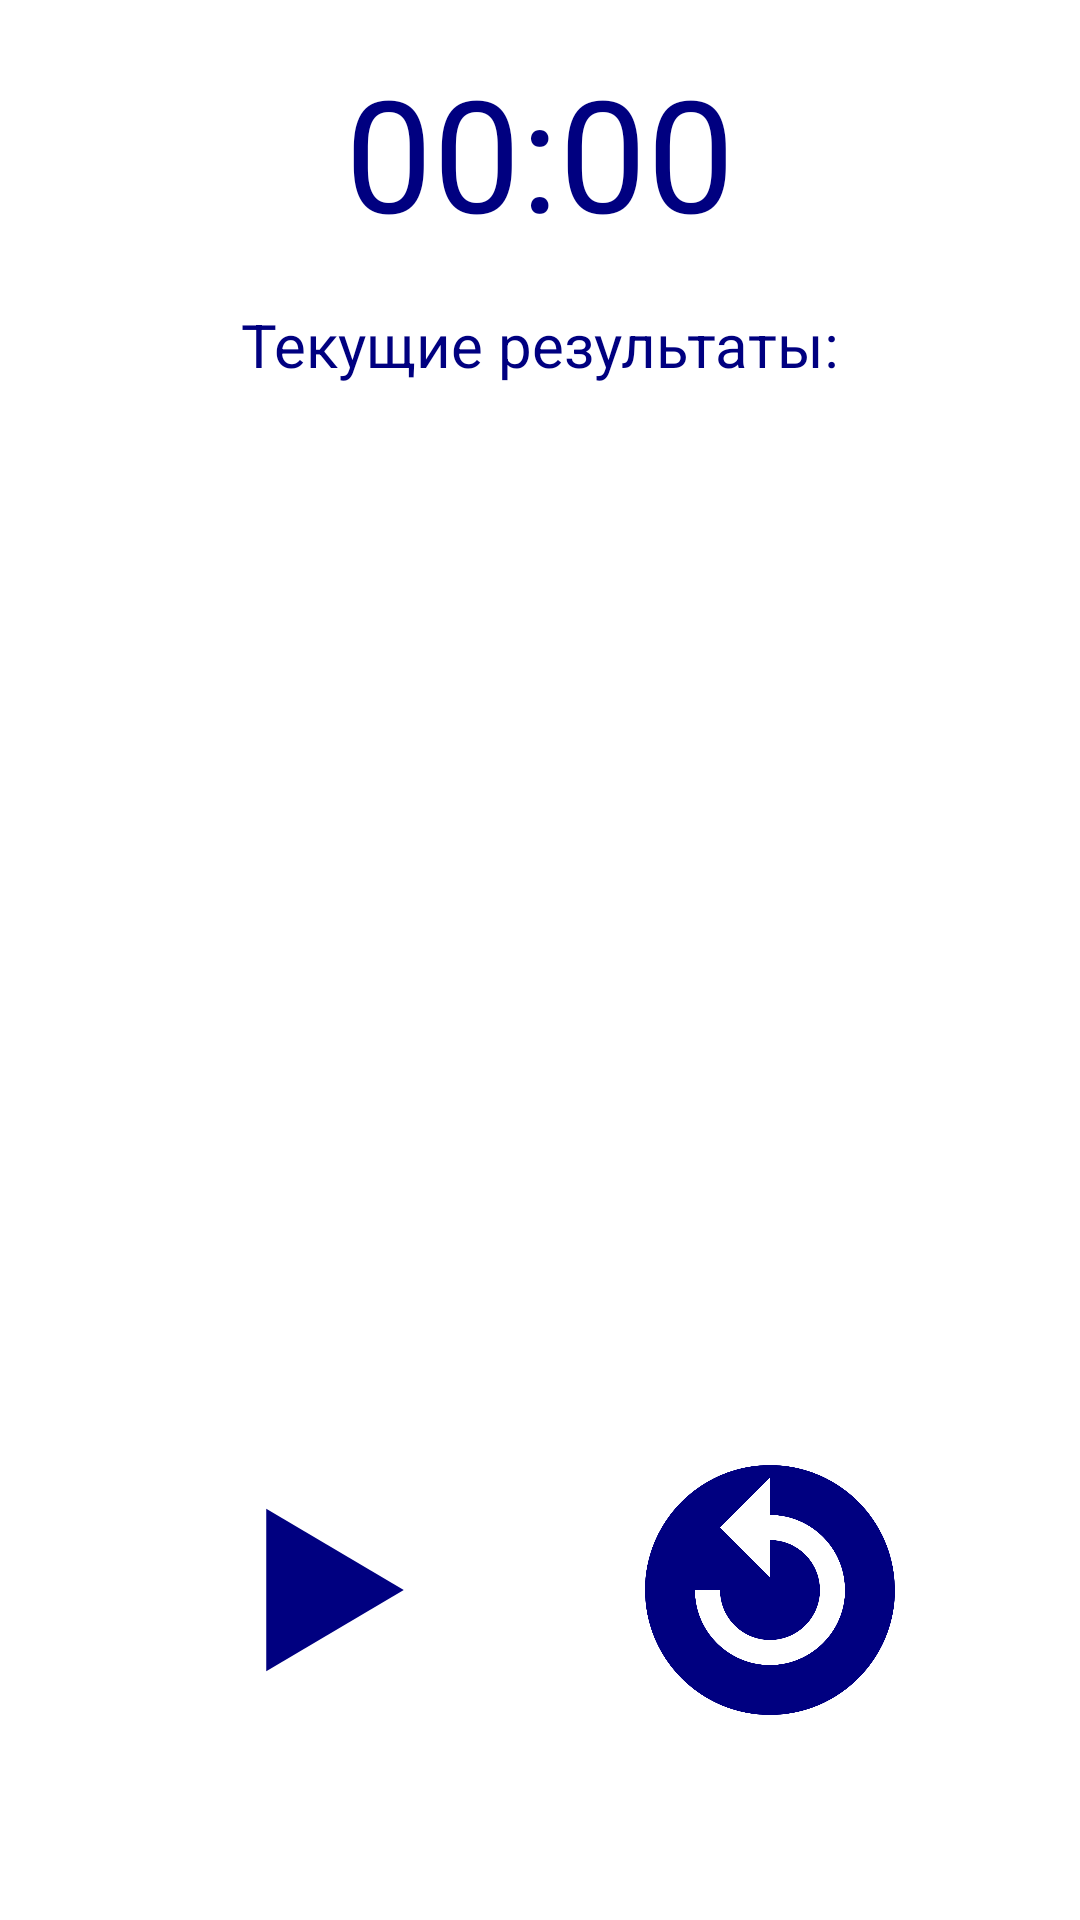

Named icons in this screenshot (1080px x 1920px) and their bounding boxes, (x1, y1, x2, y2):
reset training: (645, 1465, 895, 1715)
start training: (266, 1509, 404, 1671)
